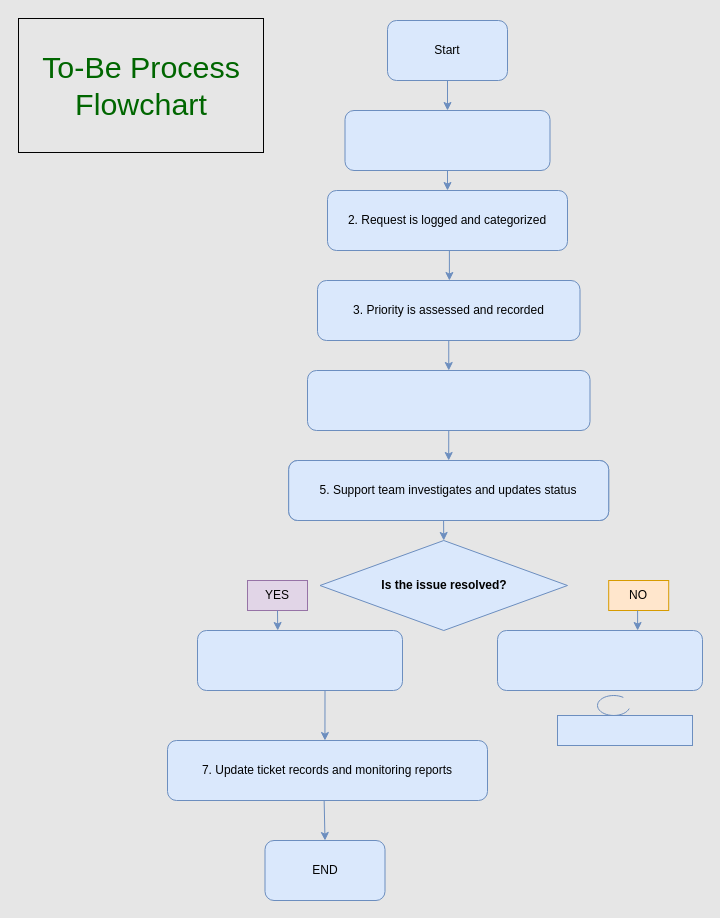
The diagram is 720 pixels wide and 918 high, and some of its shapes have lost their labels. The shapes that lost their labels are listed below. From the top down, each one's box as (x1, y1, x2, y2) in pixels, then its label:
(344, 110, 550, 170): 1. User submits IT service request
(306, 370, 590, 430): 4. Request is assigned to support personnel
(196, 630, 402, 690): Validate resolution and close ticket
(496, 630, 702, 690): Continue investigation or escalate
(556, 714, 692, 746): Return to Step 5
